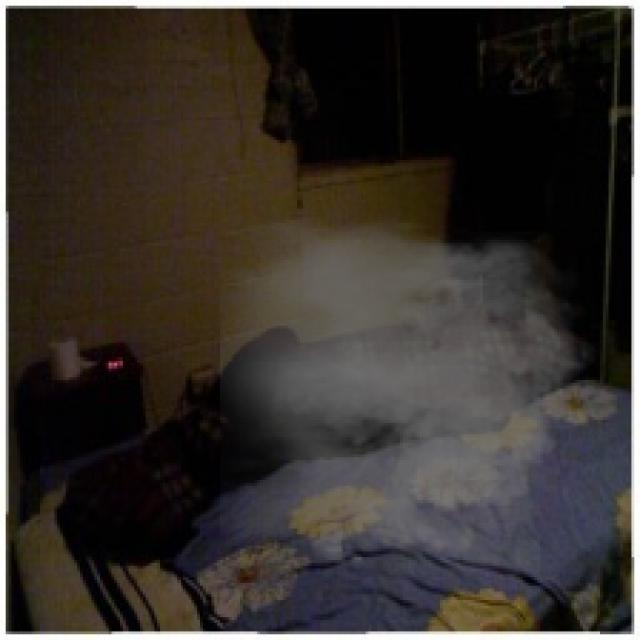Smoke: (220, 217, 603, 577)
